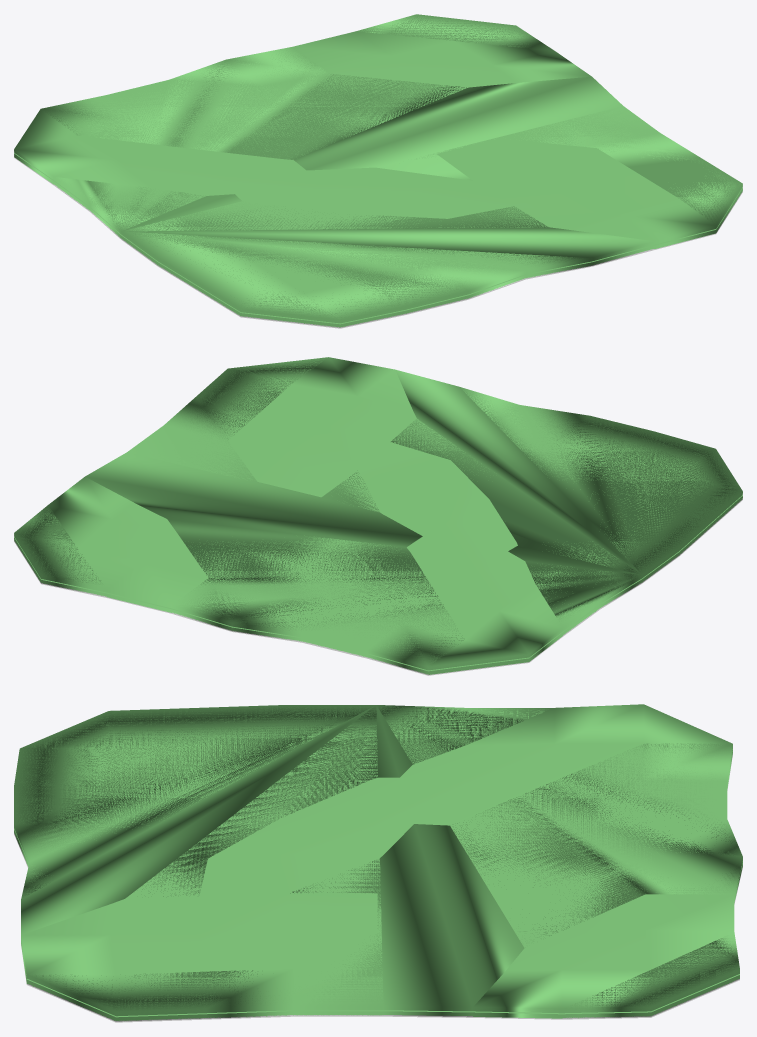
File: rug.fbx
The picture shows the model from 3 angles, top to bottom: view 1: azimuth 30°, elevation 25°; view 2: azimuth 150°, elevation 25°; view 3: azimuth 270°, elevation 25°; orthographic projection. The views are drawn at different scales.
Parts seen in each view (by area): view 1: Plane; view 2: Plane; view 3: Plane.
Boxes of the visible parts, x1,y1,x2,y2 form: Plane: [14, 14, 742, 328]; Plane: [14, 357, 742, 675]; Plane: [14, 704, 742, 1022].
Size of the model in its own units: 204 by 3.77 by 204.
